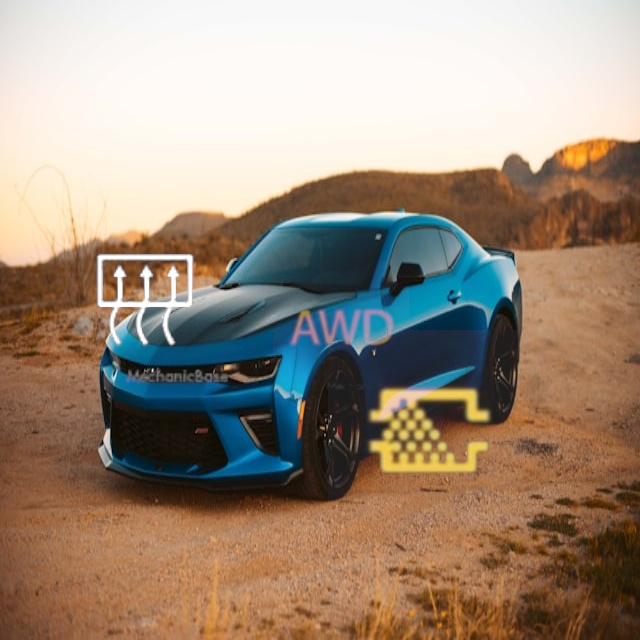symbol: (328, 330, 533, 535), (57, 213, 235, 391), (273, 261, 409, 397)
